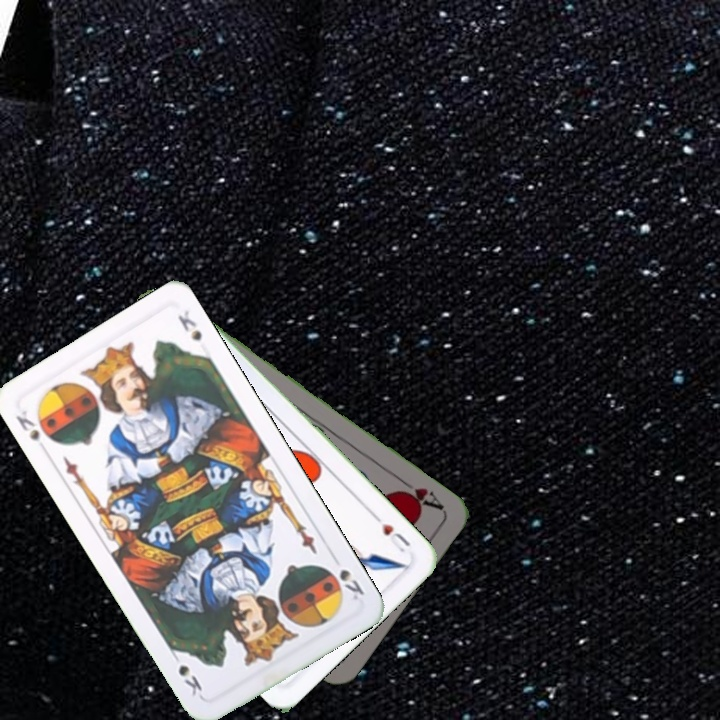HA: (393, 473, 446, 513)
HU: (369, 510, 414, 556)
SK: (11, 405, 57, 446), (335, 565, 367, 603)
